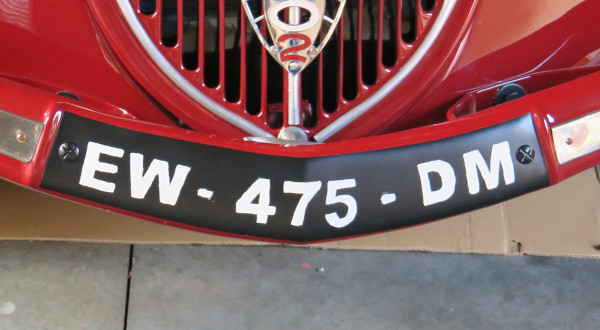license_plate: (38, 110, 551, 242)
